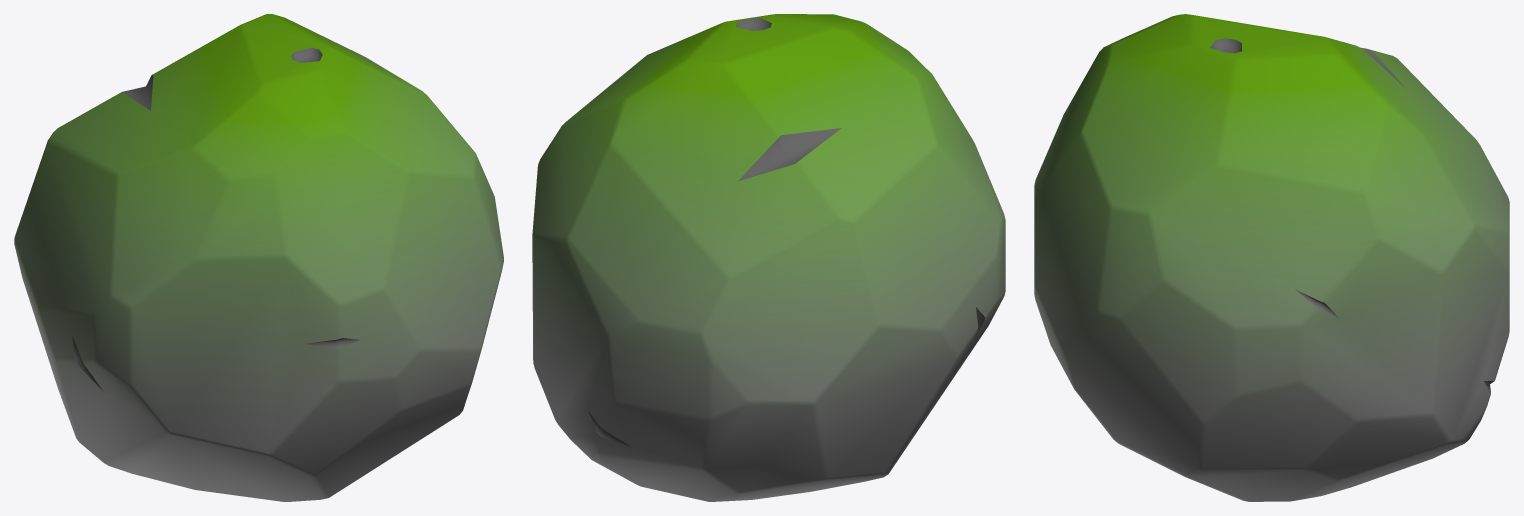
The model's file is Rock07_1.fbx.
3 renders of one model, left to right at view 1: azimuth 30°, elevation 25°; view 2: azimuth 150°, elevation 25°; view 3: azimuth 270°, elevation 25°, orthographic. The views are drawn at different scales.
Parts seen in each view (by area): view 1: LOD0; view 2: LOD0; view 3: LOD0.
Part boxes in pixels (x1,y1,x2,y2): LOD0: (14, 14, 503, 501); LOD0: (532, 14, 1005, 501); LOD0: (1034, 14, 1509, 501).
Size of what is drawn, in the model's own units: 497 by 497 by 497.
